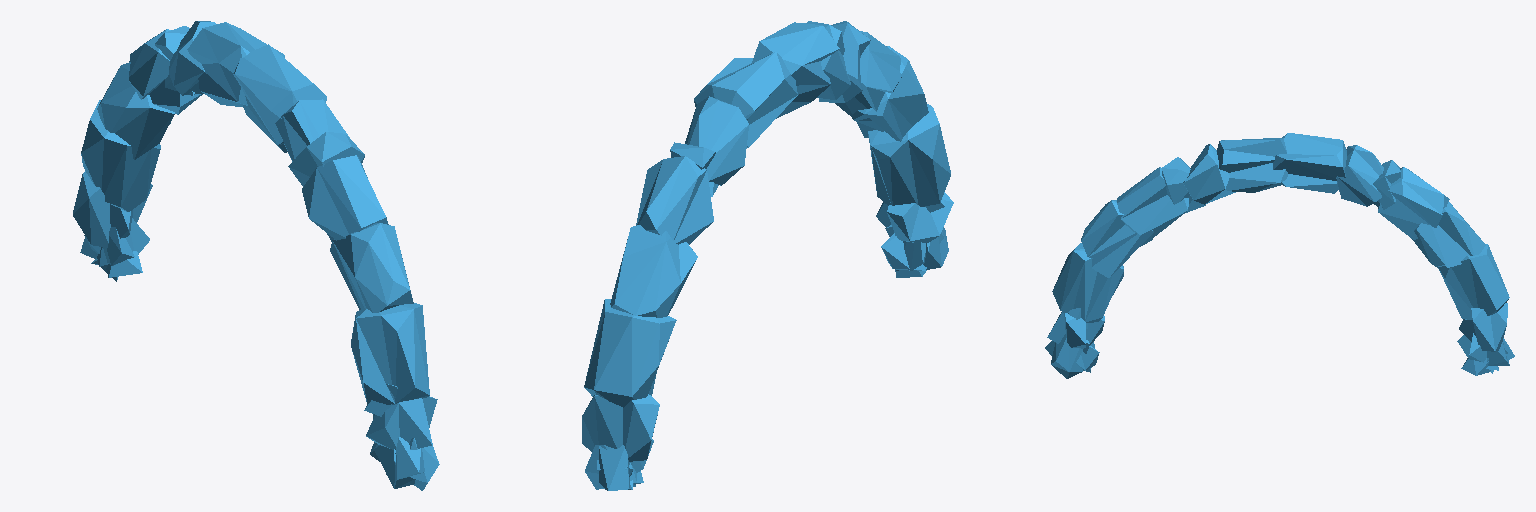
URDF robot description (partnet_59d99d0a2b385fe81b1a00a31bfed97b):
<?xml version="1.0" ?><robot name="partnet_59d99d0a2b385fe81b1a00a31bfed97b">
	<link name="base"/>
	<link name="link_0">
		<visual>
			<origin xyz="0 -0.48305199267419374 -0.02847403130494055"/>
			<geometry>
				<mesh filename="new_objs/100448_link_0_7.obj"/>
			</geometry>
		</visual>
	<visual>
			<origin xyz="0 -0.48305199267419374 -0.02847403130494055"/>
			<geometry>
				<mesh filename="new_objs/100448_link_0_0.obj"/>
			</geometry>
		</visual>
	<visual>
			<origin xyz="0 -0.48305199267419374 -0.02847403130494055"/>
			<geometry>
				<mesh filename="new_objs/100448_link_0_33.obj"/>
			</geometry>
		</visual>
	<visual>
			<origin xyz="0 -0.48305199267419374 -0.02847403130494055"/>
			<geometry>
				<mesh filename="new_objs/100448_link_0_36.obj"/>
			</geometry>
		</visual>
	<visual>
			<origin xyz="0 -0.48305199267419374 -0.02847403130494055"/>
			<geometry>
				<mesh filename="new_objs/100448_link_0_28.obj"/>
			</geometry>
		</visual>
	<visual>
			<origin xyz="0 -0.48305199267419374 -0.02847403130494055"/>
			<geometry>
				<mesh filename="new_objs/100448_link_0_14.obj"/>
			</geometry>
		</visual>
	<visual>
			<origin xyz="0 -0.48305199267419374 -0.02847403130494055"/>
			<geometry>
				<mesh filename="new_objs/100448_link_0_35.obj"/>
			</geometry>
		</visual>
	<visual>
			<origin xyz="0 -0.48305199267419374 -0.02847403130494055"/>
			<geometry>
				<mesh filename="new_objs/100448_link_0_10.obj"/>
			</geometry>
		</visual>
	<visual>
			<origin xyz="0 -0.48305199267419374 -0.02847403130494055"/>
			<geometry>
				<mesh filename="new_objs/100448_link_0_6.obj"/>
			</geometry>
		</visual>
	<visual>
			<origin xyz="0 -0.48305199267419374 -0.02847403130494055"/>
			<geometry>
				<mesh filename="new_objs/100448_link_0_26.obj"/>
			</geometry>
		</visual>
	<visual>
			<origin xyz="0 -0.48305199267419374 -0.02847403130494055"/>
			<geometry>
				<mesh filename="new_objs/100448_link_0_23.obj"/>
			</geometry>
		</visual>
	<visual>
			<origin xyz="0 -0.48305199267419374 -0.02847403130494055"/>
			<geometry>
				<mesh filename="new_objs/100448_link_0_19.obj"/>
			</geometry>
		</visual>
	<visual>
			<origin xyz="0 -0.48305199267419374 -0.02847403130494055"/>
			<geometry>
				<mesh filename="new_objs/100448_link_0_3.obj"/>
			</geometry>
		</visual>
	<visual>
			<origin xyz="0 -0.48305199267419374 -0.02847403130494055"/>
			<geometry>
				<mesh filename="new_objs/100448_link_0_12.obj"/>
			</geometry>
		</visual>
	<visual>
			<origin xyz="0 -0.48305199267419374 -0.02847403130494055"/>
			<geometry>
				<mesh filename="new_objs/100448_link_0_27.obj"/>
			</geometry>
		</visual>
	<visual>
			<origin xyz="0 -0.48305199267419374 -0.02847403130494055"/>
			<geometry>
				<mesh filename="new_objs/100448_link_0_11.obj"/>
			</geometry>
		</visual>
	<visual>
			<origin xyz="0 -0.48305199267419374 -0.02847403130494055"/>
			<geometry>
				<mesh filename="new_objs/100448_link_0_30.obj"/>
			</geometry>
		</visual>
	<visual>
			<origin xyz="0 -0.48305199267419374 -0.02847403130494055"/>
			<geometry>
				<mesh filename="new_objs/100448_link_0_2.obj"/>
			</geometry>
		</visual>
	<visual>
			<origin xyz="0 -0.48305199267419374 -0.02847403130494055"/>
			<geometry>
				<mesh filename="new_objs/100448_link_0_1.obj"/>
			</geometry>
		</visual>
	<visual>
			<origin xyz="0 -0.48305199267419374 -0.02847403130494055"/>
			<geometry>
				<mesh filename="new_objs/100448_link_0_25.obj"/>
			</geometry>
		</visual>
	<visual>
			<origin xyz="0 -0.48305199267419374 -0.02847403130494055"/>
			<geometry>
				<mesh filename="new_objs/100448_link_0_13.obj"/>
			</geometry>
		</visual>
	<visual>
			<origin xyz="0 -0.48305199267419374 -0.02847403130494055"/>
			<geometry>
				<mesh filename="new_objs/100448_link_0_22.obj"/>
			</geometry>
		</visual>
	<visual>
			<origin xyz="0 -0.48305199267419374 -0.02847403130494055"/>
			<geometry>
				<mesh filename="new_objs/100448_link_0_31.obj"/>
			</geometry>
		</visual>
	<visual>
			<origin xyz="0 -0.48305199267419374 -0.02847403130494055"/>
			<geometry>
				<mesh filename="new_objs/100448_link_0_16.obj"/>
			</geometry>
		</visual>
	<visual>
			<origin xyz="0 -0.48305199267419374 -0.02847403130494055"/>
			<geometry>
				<mesh filename="new_objs/100448_link_0_9.obj"/>
			</geometry>
		</visual>
	<visual>
			<origin xyz="0 -0.48305199267419374 -0.02847403130494055"/>
			<geometry>
				<mesh filename="new_objs/100448_link_0_37.obj"/>
			</geometry>
		</visual>
	<visual>
			<origin xyz="0 -0.48305199267419374 -0.02847403130494055"/>
			<geometry>
				<mesh filename="new_objs/100448_link_0_20.obj"/>
			</geometry>
		</visual>
	<visual>
			<origin xyz="0 -0.48305199267419374 -0.02847403130494055"/>
			<geometry>
				<mesh filename="new_objs/100448_link_0_5.obj"/>
			</geometry>
		</visual>
	<visual>
			<origin xyz="0 -0.48305199267419374 -0.02847403130494055"/>
			<geometry>
				<mesh filename="new_objs/100448_link_0_21.obj"/>
			</geometry>
		</visual>
	<visual>
			<origin xyz="0 -0.48305199267419374 -0.02847403130494055"/>
			<geometry>
				<mesh filename="new_objs/100448_link_0_15.obj"/>
			</geometry>
		</visual>
	<visual>
			<origin xyz="0 -0.48305199267419374 -0.02847403130494055"/>
			<geometry>
				<mesh filename="new_objs/100448_link_0_18.obj"/>
			</geometry>
		</visual>
	<visual>
			<origin xyz="0 -0.48305199267419374 -0.02847403130494055"/>
			<geometry>
				<mesh filename="new_objs/100448_link_0_8.obj"/>
			</geometry>
		</visual>
	<visual>
			<origin xyz="0 -0.48305199267419374 -0.02847403130494055"/>
			<geometry>
				<mesh filename="new_objs/100448_link_0_24.obj"/>
			</geometry>
		</visual>
	<visual>
			<origin xyz="0 -0.48305199267419374 -0.02847403130494055"/>
			<geometry>
				<mesh filename="new_objs/100448_link_0_34.obj"/>
			</geometry>
		</visual>
	<visual>
			<origin xyz="0 -0.48305199267419374 -0.02847403130494055"/>
			<geometry>
				<mesh filename="new_objs/100448_link_0_32.obj"/>
			</geometry>
		</visual>
	<visual>
			<origin xyz="0 -0.48305199267419374 -0.02847403130494055"/>
			<geometry>
				<mesh filename="new_objs/100448_link_0_29.obj"/>
			</geometry>
		</visual>
	<visual>
			<origin xyz="0 -0.48305199267419374 -0.02847403130494055"/>
			<geometry>
				<mesh filename="new_objs/100448_link_0_4.obj"/>
			</geometry>
		</visual>
	<visual>
			<origin xyz="0 -0.48305199267419374 -0.02847403130494055"/>
			<geometry>
				<mesh filename="new_objs/100448_link_0_17.obj"/>
			</geometry>
		</visual>
	
		<collision>
			<origin xyz="0 -0.48305199267419374 -0.02847403130494055"/>
			<geometry>
				<mesh filename="new_objs/100448_link_0_7.obj"/>
			</geometry>
		</collision><collision>
			<origin xyz="0 -0.48305199267419374 -0.02847403130494055"/>
			<geometry>
				<mesh filename="new_objs/100448_link_0_0.obj"/>
			</geometry>
		</collision><collision>
			<origin xyz="0 -0.48305199267419374 -0.02847403130494055"/>
			<geometry>
				<mesh filename="new_objs/100448_link_0_33.obj"/>
			</geometry>
		</collision><collision>
			<origin xyz="0 -0.48305199267419374 -0.02847403130494055"/>
			<geometry>
				<mesh filename="new_objs/100448_link_0_36.obj"/>
			</geometry>
		</collision><collision>
			<origin xyz="0 -0.48305199267419374 -0.02847403130494055"/>
			<geometry>
				<mesh filename="new_objs/100448_link_0_28.obj"/>
			</geometry>
		</collision><collision>
			<origin xyz="0 -0.48305199267419374 -0.02847403130494055"/>
			<geometry>
				<mesh filename="new_objs/100448_link_0_14.obj"/>
			</geometry>
		</collision><collision>
			<origin xyz="0 -0.48305199267419374 -0.02847403130494055"/>
			<geometry>
				<mesh filename="new_objs/100448_link_0_35.obj"/>
			</geometry>
		</collision><collision>
			<origin xyz="0 -0.48305199267419374 -0.02847403130494055"/>
			<geometry>
				<mesh filename="new_objs/100448_link_0_10.obj"/>
			</geometry>
		</collision><collision>
			<origin xyz="0 -0.48305199267419374 -0.02847403130494055"/>
			<geometry>
				<mesh filename="new_objs/100448_link_0_6.obj"/>
			</geometry>
		</collision><collision>
			<origin xyz="0 -0.48305199267419374 -0.02847403130494055"/>
			<geometry>
				<mesh filename="new_objs/100448_link_0_26.obj"/>
			</geometry>
		</collision><collision>
			<origin xyz="0 -0.48305199267419374 -0.02847403130494055"/>
			<geometry>
				<mesh filename="new_objs/100448_link_0_23.obj"/>
			</geometry>
		</collision><collision>
			<origin xyz="0 -0.48305199267419374 -0.02847403130494055"/>
			<geometry>
				<mesh filename="new_objs/100448_link_0_19.obj"/>
			</geometry>
		</collision><collision>
			<origin xyz="0 -0.48305199267419374 -0.02847403130494055"/>
			<geometry>
				<mesh filename="new_objs/100448_link_0_3.obj"/>
			</geometry>
		</collision><collision>
			<origin xyz="0 -0.48305199267419374 -0.02847403130494055"/>
			<geometry>
				<mesh filename="new_objs/100448_link_0_12.obj"/>
			</geometry>
		</collision><collision>
			<origin xyz="0 -0.48305199267419374 -0.02847403130494055"/>
			<geometry>
				<mesh filename="new_objs/100448_link_0_27.obj"/>
			</geometry>
		</collision><collision>
			<origin xyz="0 -0.48305199267419374 -0.02847403130494055"/>
			<geometry>
				<mesh filename="new_objs/100448_link_0_11.obj"/>
			</geometry>
		</collision><collision>
			<origin xyz="0 -0.48305199267419374 -0.02847403130494055"/>
			<geometry>
				<mesh filename="new_objs/100448_link_0_30.obj"/>
			</geometry>
		</collision><collision>
			<origin xyz="0 -0.48305199267419374 -0.02847403130494055"/>
			<geometry>
				<mesh filename="new_objs/100448_link_0_2.obj"/>
			</geometry>
		</collision><collision>
			<origin xyz="0 -0.48305199267419374 -0.02847403130494055"/>
			<geometry>
				<mesh filename="new_objs/100448_link_0_1.obj"/>
			</geometry>
		</collision><collision>
			<origin xyz="0 -0.48305199267419374 -0.02847403130494055"/>
			<geometry>
				<mesh filename="new_objs/100448_link_0_25.obj"/>
			</geometry>
		</collision><collision>
			<origin xyz="0 -0.48305199267419374 -0.02847403130494055"/>
			<geometry>
				<mesh filename="new_objs/100448_link_0_13.obj"/>
			</geometry>
		</collision><collision>
			<origin xyz="0 -0.48305199267419374 -0.02847403130494055"/>
			<geometry>
				<mesh filename="new_objs/100448_link_0_22.obj"/>
			</geometry>
		</collision><collision>
			<origin xyz="0 -0.48305199267419374 -0.02847403130494055"/>
			<geometry>
				<mesh filename="new_objs/100448_link_0_31.obj"/>
			</geometry>
		</collision><collision>
			<origin xyz="0 -0.48305199267419374 -0.02847403130494055"/>
			<geometry>
				<mesh filename="new_objs/100448_link_0_16.obj"/>
			</geometry>
		</collision><collision>
			<origin xyz="0 -0.48305199267419374 -0.02847403130494055"/>
			<geometry>
				<mesh filename="new_objs/100448_link_0_9.obj"/>
			</geometry>
		</collision><collision>
			<origin xyz="0 -0.48305199267419374 -0.02847403130494055"/>
			<geometry>
				<mesh filename="new_objs/100448_link_0_37.obj"/>
			</geometry>
		</collision><collision>
			<origin xyz="0 -0.48305199267419374 -0.02847403130494055"/>
			<geometry>
				<mesh filename="new_objs/100448_link_0_20.obj"/>
			</geometry>
		</collision><collision>
			<origin xyz="0 -0.48305199267419374 -0.02847403130494055"/>
			<geometry>
				<mesh filename="new_objs/100448_link_0_5.obj"/>
			</geometry>
		</collision><collision>
			<origin xyz="0 -0.48305199267419374 -0.02847403130494055"/>
			<geometry>
				<mesh filename="new_objs/100448_link_0_21.obj"/>
			</geometry>
		</collision><collision>
			<origin xyz="0 -0.48305199267419374 -0.02847403130494055"/>
			<geometry>
				<mesh filename="new_objs/100448_link_0_15.obj"/>
			</geometry>
		</collision><collision>
			<origin xyz="0 -0.48305199267419374 -0.02847403130494055"/>
			<geometry>
				<mesh filename="new_objs/100448_link_0_18.obj"/>
			</geometry>
		</collision><collision>
			<origin xyz="0 -0.48305199267419374 -0.02847403130494055"/>
			<geometry>
				<mesh filename="new_objs/100448_link_0_8.obj"/>
			</geometry>
		</collision><collision>
			<origin xyz="0 -0.48305199267419374 -0.02847403130494055"/>
			<geometry>
				<mesh filename="new_objs/100448_link_0_24.obj"/>
			</geometry>
		</collision><collision>
			<origin xyz="0 -0.48305199267419374 -0.02847403130494055"/>
			<geometry>
				<mesh filename="new_objs/100448_link_0_34.obj"/>
			</geometry>
		</collision><collision>
			<origin xyz="0 -0.48305199267419374 -0.02847403130494055"/>
			<geometry>
				<mesh filename="new_objs/100448_link_0_32.obj"/>
			</geometry>
		</collision><collision>
			<origin xyz="0 -0.48305199267419374 -0.02847403130494055"/>
			<geometry>
				<mesh filename="new_objs/100448_link_0_29.obj"/>
			</geometry>
		</collision><collision>
			<origin xyz="0 -0.48305199267419374 -0.02847403130494055"/>
			<geometry>
				<mesh filename="new_objs/100448_link_0_4.obj"/>
			</geometry>
		</collision><collision>
			<origin xyz="0 -0.48305199267419374 -0.02847403130494055"/>
			<geometry>
				<mesh filename="new_objs/100448_link_0_17.obj"/>
			</geometry>
		</collision></link>
	<joint name="joint_0" type="revolute">
		<origin xyz="0 0.48305199267419374 0.02847403130494055"/>
		<axis xyz="-1 0 0"/>
		<child link="link_0"/>
		<parent link="link_1"/>
		<limit lower="-1.580380339970292" upper="1.985486557068749"/>
	</joint>
	<link name="link_1">
		<collision>
			<origin xyz="0 0 0"/>
			<geometry>
				<mesh filename="new_objs/100448_link_1_15.obj"/>
			</geometry>
		</collision>
		<collision>
			<origin xyz="0 0 0"/>
			<geometry>
				<mesh filename="new_objs/100448_link_1_31.obj"/>
			</geometry>
		</collision>
		<collision>
			<origin xyz="0 0 0"/>
			<geometry>
				<mesh filename="new_objs/100448_link_1_43.obj"/>
			</geometry>
		</collision>
		<collision>
			<origin xyz="0 0 0"/>
			<geometry>
				<mesh filename="new_objs/100448_link_1_20.obj"/>
			</geometry>
		</collision>
		<collision>
			<origin xyz="0 0 0"/>
			<geometry>
				<mesh filename="new_objs/100448_link_1_4.obj"/>
			</geometry>
		</collision>
		<collision>
			<origin xyz="0 0 0"/>
			<geometry>
				<mesh filename="new_objs/100448_link_1_16.obj"/>
			</geometry>
		</collision>
		<collision>
			<origin xyz="0 0 0"/>
			<geometry>
				<mesh filename="new_objs/100448_link_1_41.obj"/>
			</geometry>
		</collision>
		<collision>
			<origin xyz="0 0 0"/>
			<geometry>
				<mesh filename="new_objs/100448_link_1_2.obj"/>
			</geometry>
		</collision>
		<collision>
			<origin xyz="0 0 0"/>
			<geometry>
				<mesh filename="new_objs/100448_link_1_40.obj"/>
			</geometry>
		</collision>
		<collision>
			<origin xyz="0 0 0"/>
			<geometry>
				<mesh filename="new_objs/100448_link_1_39.obj"/>
			</geometry>
		</collision>
		<collision>
			<origin xyz="0 0 0"/>
			<geometry>
				<mesh filename="new_objs/100448_link_1_25.obj"/>
			</geometry>
		</collision>
		<collision>
			<origin xyz="0 0 0"/>
			<geometry>
				<mesh filename="new_objs/100448_link_1_32.obj"/>
			</geometry>
		</collision>
		<collision>
			<origin xyz="0 0 0"/>
			<geometry>
				<mesh filename="new_objs/100448_link_1_44.obj"/>
			</geometry>
		</collision>
		<collision>
			<origin xyz="0 0 0"/>
			<geometry>
				<mesh filename="new_objs/100448_link_1_13.obj"/>
			</geometry>
		</collision>
		<collision>
			<origin xyz="0 0 0"/>
			<geometry>
				<mesh filename="new_objs/100448_link_1_12.obj"/>
			</geometry>
		</collision>
		<collision>
			<origin xyz="0 0 0"/>
			<geometry>
				<mesh filename="new_objs/100448_link_1_29.obj"/>
			</geometry>
		</collision>
		<collision>
			<origin xyz="0 0 0"/>
			<geometry>
				<mesh filename="new_objs/100448_link_1_33.obj"/>
			</geometry>
		</collision>
		<collision>
			<origin xyz="0 0 0"/>
			<geometry>
				<mesh filename="new_objs/100448_link_1_7.obj"/>
			</geometry>
		</collision>
		<collision>
			<origin xyz="0 0 0"/>
			<geometry>
				<mesh filename="new_objs/100448_link_1_37.obj"/>
			</geometry>
		</collision>
		<collision>
			<origin xyz="0 0 0"/>
			<geometry>
				<mesh filename="new_objs/100448_link_1_19.obj"/>
			</geometry>
		</collision>
		<collision>
			<origin xyz="0 0 0"/>
			<geometry>
				<mesh filename="new_objs/100448_link_1_26.obj"/>
			</geometry>
		</collision>
		<collision>
			<origin xyz="0 0 0"/>
			<geometry>
				<mesh filename="new_objs/100448_link_1_8.obj"/>
			</geometry>
		</collision>
		<collision>
			<origin xyz="0 0 0"/>
			<geometry>
				<mesh filename="new_objs/100448_link_1_17.obj"/>
			</geometry>
		</collision>
		<collision>
			<origin xyz="0 0 0"/>
			<geometry>
				<mesh filename="new_objs/100448_link_1_9.obj"/>
			</geometry>
		</collision>
		<collision>
			<origin xyz="0 0 0"/>
			<geometry>
				<mesh filename="new_objs/100448_link_1_45.obj"/>
			</geometry>
		</collision>
		<collision>
			<origin xyz="0 0 0"/>
			<geometry>
				<mesh filename="new_objs/100448_link_1_30.obj"/>
			</geometry>
		</collision>
		<collision>
			<origin xyz="0 0 0"/>
			<geometry>
				<mesh filename="new_objs/100448_link_1_38.obj"/>
			</geometry>
		</collision>
		<collision>
			<origin xyz="0 0 0"/>
			<geometry>
				<mesh filename="new_objs/100448_link_1_1.obj"/>
			</geometry>
		</collision>
		<collision>
			<origin xyz="0 0 0"/>
			<geometry>
				<mesh filename="new_objs/100448_link_1_18.obj"/>
			</geometry>
		</collision>
		<collision>
			<origin xyz="0 0 0"/>
			<geometry>
				<mesh filename="new_objs/100448_link_1_0.obj"/>
			</geometry>
		</collision>
		<collision>
			<origin xyz="0 0 0"/>
			<geometry>
				<mesh filename="new_objs/100448_link_1_21.obj"/>
			</geometry>
		</collision>
		<collision>
			<origin xyz="0 0 0"/>
			<geometry>
				<mesh filename="new_objs/100448_link_1_3.obj"/>
			</geometry>
		</collision>
		<collision>
			<origin xyz="0 0 0"/>
			<geometry>
				<mesh filename="new_objs/100448_link_1_10.obj"/>
			</geometry>
		</collision>
		<collision>
			<origin xyz="0 0 0"/>
			<geometry>
				<mesh filename="new_objs/100448_link_1_5.obj"/>
			</geometry>
		</collision>
		<collision>
			<origin xyz="0 0 0"/>
			<geometry>
				<mesh filename="new_objs/100448_link_1_42.obj"/>
			</geometry>
		</collision>
		<collision>
			<origin xyz="0 0 0"/>
			<geometry>
				<mesh filename="new_objs/100448_link_1_6.obj"/>
			</geometry>
		</collision>
		<collision>
			<origin xyz="0 0 0"/>
			<geometry>
				<mesh filename="new_objs/100448_link_1_28.obj"/>
			</geometry>
		</collision>
		<collision>
			<origin xyz="0 0 0"/>
			<geometry>
				<mesh filename="new_objs/100448_link_1_14.obj"/>
			</geometry>
		</collision>
		<collision>
			<origin xyz="0 0 0"/>
			<geometry>
				<mesh filename="new_objs/100448_link_1_11.obj"/>
			</geometry>
		</collision>
		<collision>
			<origin xyz="0 0 0"/>
			<geometry>
				<mesh filename="new_objs/100448_link_1_23.obj"/>
			</geometry>
		</collision>
		<collision>
			<origin xyz="0 0 0"/>
			<geometry>
				<mesh filename="new_objs/100448_link_1_27.obj"/>
			</geometry>
		</collision>
		<collision>
			<origin xyz="0 0 0"/>
			<geometry>
				<mesh filename="new_objs/100448_link_1_34.obj"/>
			</geometry>
		</collision>
		<collision>
			<origin xyz="0 0 0"/>
			<geometry>
				<mesh filename="new_objs/100448_link_1_35.obj"/>
			</geometry>
		</collision>
		<collision>
			<origin xyz="0 0 0"/>
			<geometry>
				<mesh filename="new_objs/100448_link_1_36.obj"/>
			</geometry>
		</collision>
		<collision>
			<origin xyz="0 0 0"/>
			<geometry>
				<mesh filename="new_objs/100448_link_1_24.obj"/>
			</geometry>
		</collision>
		<collision>
			<origin xyz="0 0 0"/>
			<geometry>
				<mesh filename="new_objs/100448_link_1_22.obj"/>
			</geometry>
		</collision>
		<visual name="base_body-part[&quot;id]">
			<origin xyz="0 0 0"/>
			<geometry>
				<mesh filename="textured_objs/original-4.obj"/>
			</geometry>
		</visual>
		<visual name="base_body-part[&quot;id]">
			<origin xyz="0 0 0"/>
			<geometry>
				<mesh filename="textured_objs/original-3.obj"/>
			</geometry>
		</visual>
		<visual name="base_body-part[&quot;id]">
			<origin xyz="0 0 0"/>
			<geometry>
				<mesh filename="textured_objs/original-2.obj"/>
			</geometry>
		</visual>
		<visual name="base_body-part[&quot;id]">
			<origin xyz="0 0 0"/>
			<geometry>
				<mesh filename="textured_objs/original-8.obj"/>
			</geometry>
		</visual>
		<visual name="base_body-part[&quot;id]">
			<origin xyz="0 0 0"/>
			<geometry>
				<mesh filename="textured_objs/original-13.obj"/>
			</geometry>
		</visual>
		<visual name="base_body-part[&quot;id]">
			<origin xyz="0 0 0"/>
			<geometry>
				<mesh filename="textured_objs/original-5.obj"/>
			</geometry>
		</visual>
		<visual name="base_body-part[&quot;id]">
			<origin xyz="0 0 0"/>
			<geometry>
				<mesh filename="textured_objs/original-6.obj"/>
			</geometry>
		</visual>
		<visual name="base_body-part[&quot;id]">
			<origin xyz="0 0 0"/>
			<geometry>
				<mesh filename="textured_objs/original-11.obj"/>
			</geometry>
		</visual>
		<visual name="base_body-part[&quot;id]">
			<origin xyz="0 0 0"/>
			<geometry>
				<mesh filename="textured_objs/original-1.obj"/>
			</geometry>
		</visual>
		<visual name="base_body-part[&quot;id]">
			<origin xyz="0 0 0"/>
			<geometry>
				<mesh filename="textured_objs/original-10.obj"/>
			</geometry>
		</visual>
		<visual name="base_body-part[&quot;id]">
			<origin xyz="0 0 0"/>
			<geometry>
				<mesh filename="textured_objs/original-14.obj"/>
			</geometry>
		</visual>
		</link>
	<joint name="joint_1" type="fixed">
		<origin rpy="1.570796326794897 0 -1.570796326794897" xyz="0 0 0"/>
		<child link="link_1"/>
		<parent link="base"/>
	</joint>
</robot>

--- What the picture shows (computed from the rendered views, not written in the file) ---
Views: 3 orthographic renders of the robot side by side, from view 1: azimuth 30°, elevation 25°; view 2: azimuth 150°, elevation 25°; view 3: azimuth 270°, elevation 25°.
Model partnet_59d99d0a2b385fe81b1a00a31bfed97b with 3 links and 2 joints (1 revolute, 1 fixed), rooted at base, posed every joint at zero.
Links seen in each view (by area): view 1: link_0; view 2: link_0; view 3: link_0.
Link boxes in pixels (bbox=[...]): link_0: bbox=[73, 21, 439, 490]; link_0: bbox=[582, 21, 953, 490]; link_0: bbox=[1045, 133, 1514, 378].
Bounding box of the posed robot: 0.1335 × 1.08 × 0.6064 m (x, y, z).
38 mesh visuals loaded from 49 distinct referenced files (38 OBJ); not drawn: 11 (reference not matched to a file when rendering).
